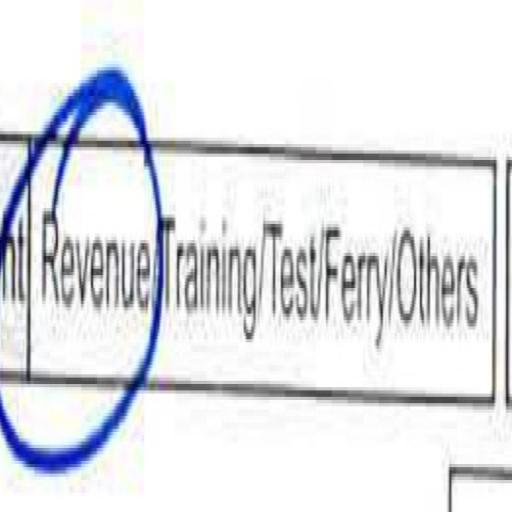check: (34, 60, 160, 508)
